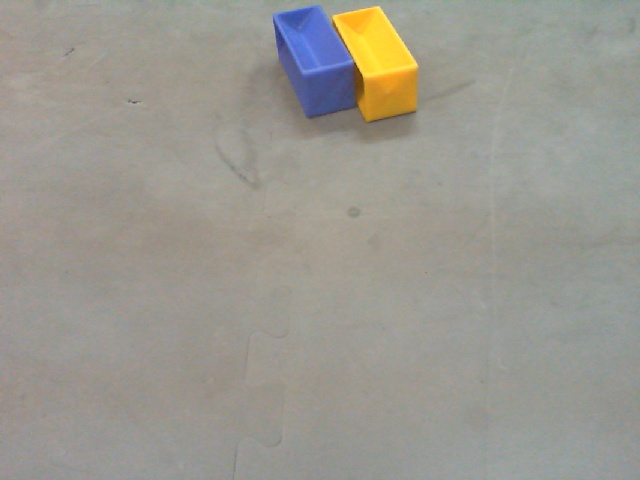BlueSample: (270, 4, 355, 123)
YellowSample: (331, 5, 419, 123)
